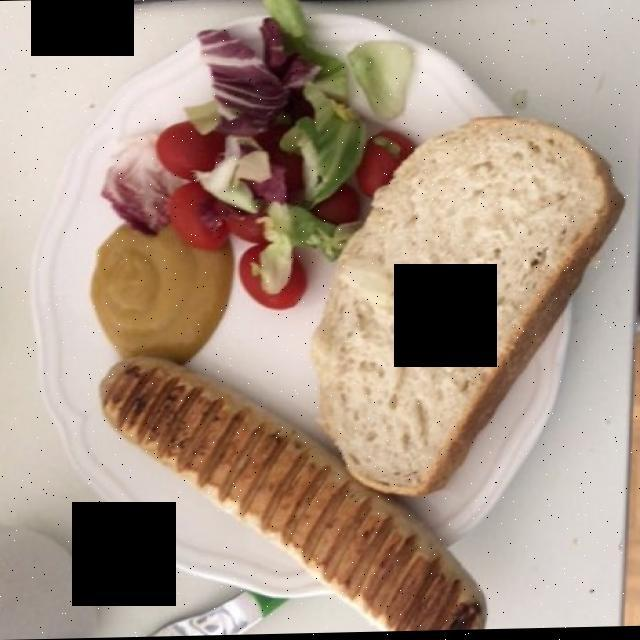bread: (321, 119, 603, 495)
mustard: (92, 230, 228, 359)
salad: (106, 0, 401, 293)
tomato: (166, 121, 425, 315)
